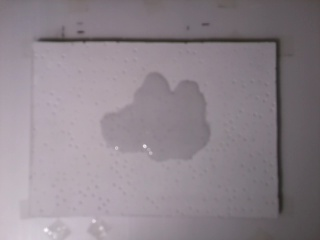Water_detected: (107, 81, 195, 153)
